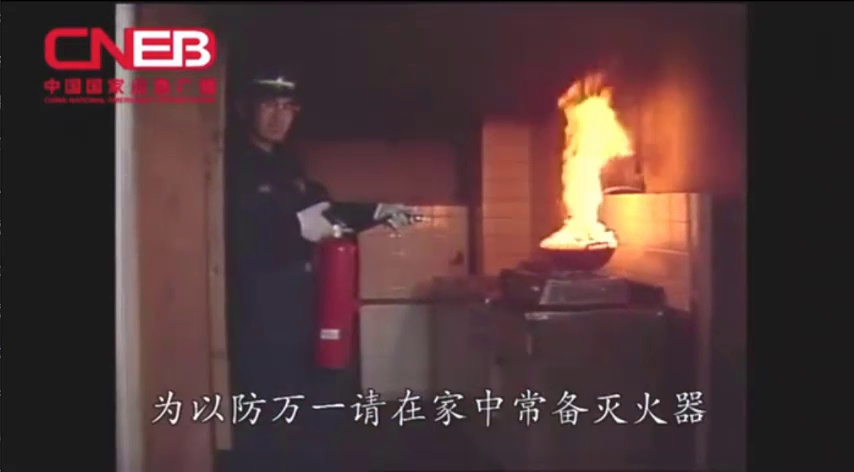fire: (515, 70, 638, 261)
